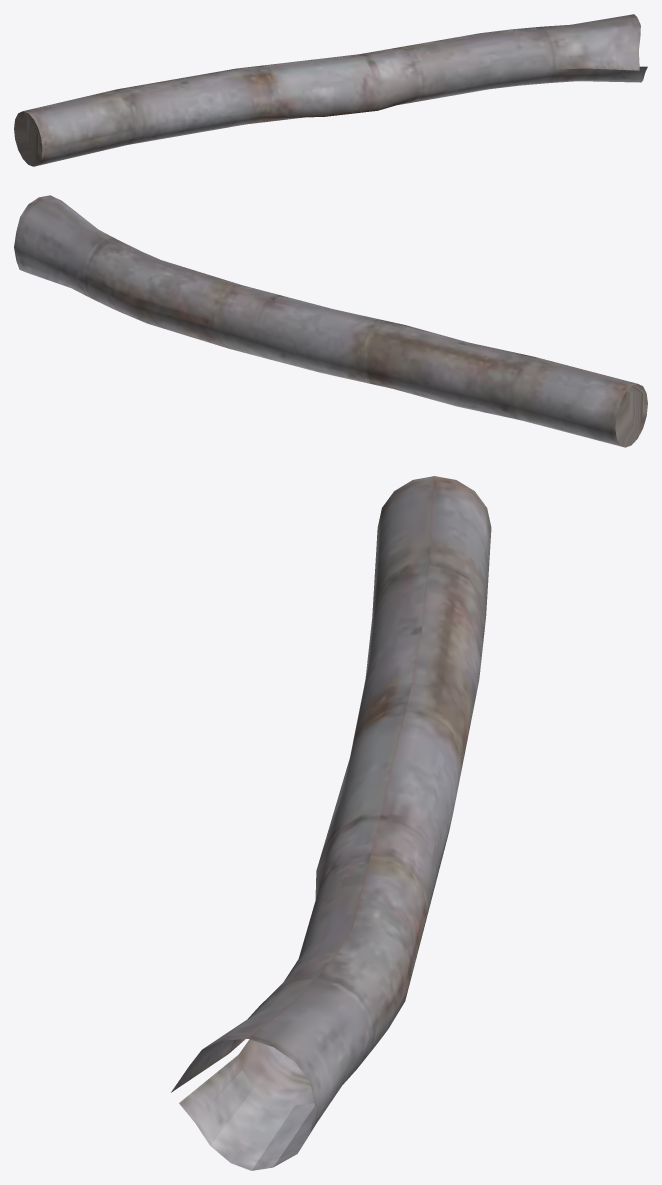
File: pipe_e_300_dmg_b.glb
The picture shows the model from 3 angles, top to bottom: view 1: azimuth 30°, elevation 25°; view 2: azimuth 150°, elevation 25°; view 3: azimuth 270°, elevation 25°; orthographic projection. The views are drawn at different scales.
Visible parts, largest first — view 1: pipe_e_300_dmg_b; view 2: pipe_e_300_dmg_b; view 3: pipe_e_300_dmg_b.
Boxes of the visible parts, left/top/right/bottom form: pipe_e_300_dmg_b: left=14, top=14, right=647, bottom=166; pipe_e_300_dmg_b: left=14, top=195, right=647, bottom=447; pipe_e_300_dmg_b: left=171, top=476, right=491, bottom=1170.
Size of the model in its own units: 2.74 by 0.3318 by 0.671.
Materials: 1 (1 with a texture image).
